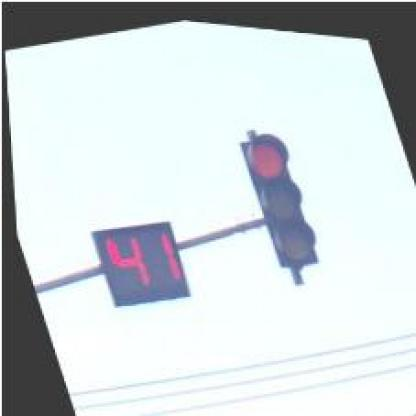red: (230, 116, 323, 270)
